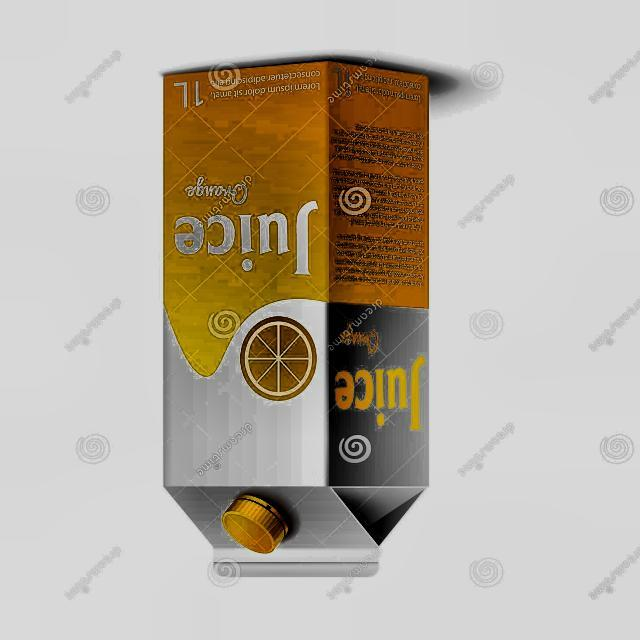cardboard: (162, 59, 432, 574)
